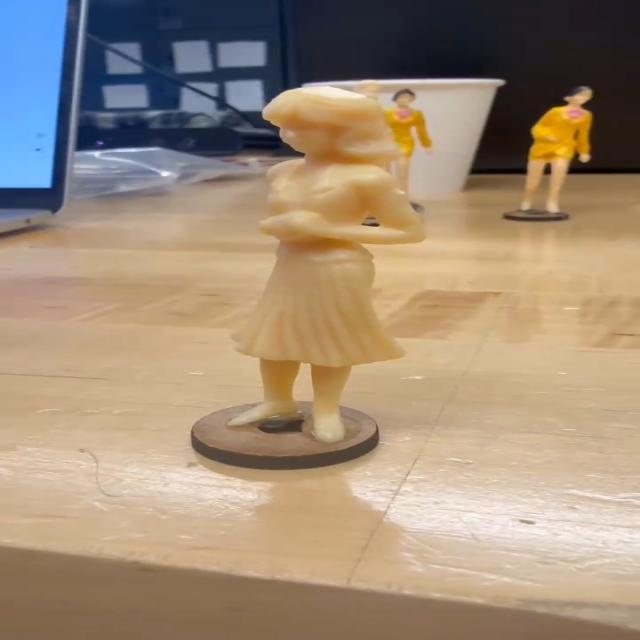Unauthorized: (242, 68, 442, 463)
